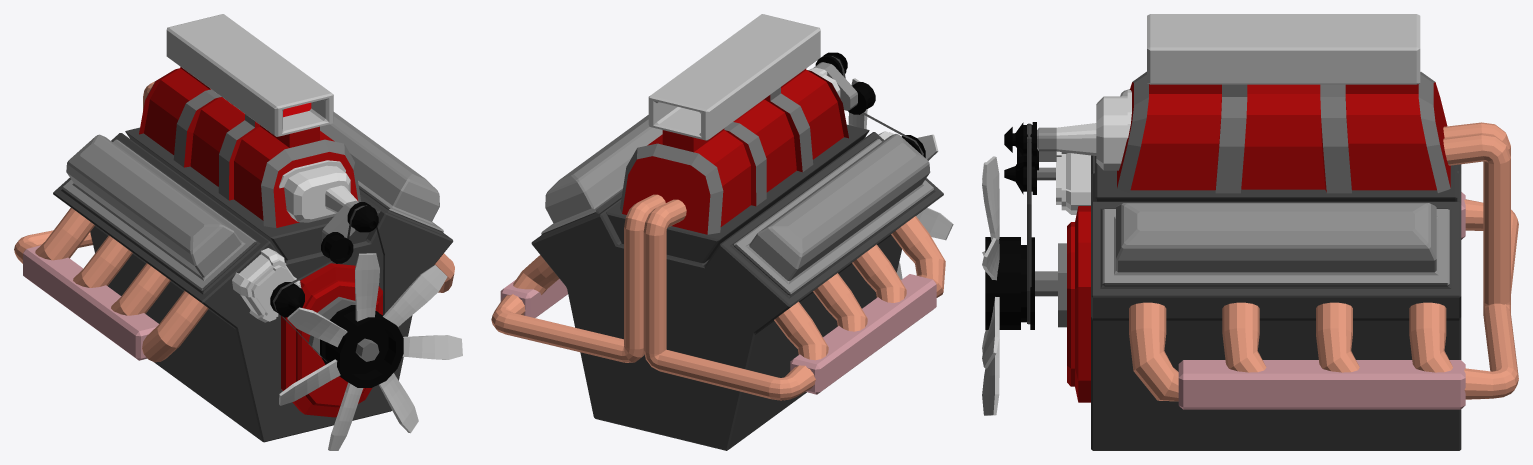
Rendered from Motor9.fbx.
The picture shows the model from 3 angles, left to right: view 1: azimuth 30°, elevation 25°; view 2: azimuth 150°, elevation 25°; view 3: azimuth 270°, elevation 25°; orthographic projection. The views are drawn at different scales.
Visible parts, largest first — view 1: Cylinder, Cylinder.001, Cube, Cube.003, Cylinder.007, Cylinder.004, Cylinder.002, Cube.004, Cube.001, Cube.002, Cylinder.003, Torus.001; view 2: Cylinder, Cylinder.007, Cylinder.001, Cube, Cube.004, Cube.003, Cylinder.004, Cube.001; view 3: Cylinder, Cylinder.001, Cylinder.007, Cube, Cube.004, Cylinder.004, Cylinder.002, Cube.001, Cube.003, Cube.002, Cylinder.003, Torus.001.
Part boxes in pixels (x1,y1,x2,y2): Cylinder: (53, 112, 453, 442); Cylinder.001: (139, 67, 361, 227); Cube: (166, 14, 333, 136); Cube.003: (279, 253, 462, 450); Cylinder.007: (14, 81, 454, 362); Cylinder.004: (270, 202, 403, 387); Cylinder.002: (281, 263, 382, 417); Cube.004: (23, 245, 158, 360); Cube.001: (279, 160, 358, 240); Cube.002: (232, 248, 301, 322); Cylinder.003: (273, 289, 379, 361); Torus.001: (272, 205, 384, 361); Cylinder: (531, 115, 943, 450); Cylinder.007: (491, 194, 945, 400); Cylinder.001: (620, 68, 848, 234); Cube: (648, 14, 820, 140); Cube.004: (500, 274, 936, 394); Cube.003: (848, 78, 953, 279); Cylinder.004: (815, 52, 925, 157); Cube.001: (809, 62, 857, 110); Cylinder: (1091, 89, 1461, 450); Cylinder.001: (1117, 71, 1450, 193); Cylinder.007: (1129, 122, 1518, 401); Cube: (1147, 14, 1420, 84); Cube.004: (1178, 192, 1465, 409); Cylinder.004: (985, 122, 1038, 329); Cylinder.002: (1067, 206, 1090, 402); Cube.001: (1037, 90, 1131, 170); Cube.003: (982, 156, 999, 415); Cube.002: (1056, 151, 1090, 214); Cylinder.003: (1035, 167, 1066, 327); Torus.001: (1027, 123, 1031, 324).
Bounding box in the file's own units: 100 × 95.69 × 122.
